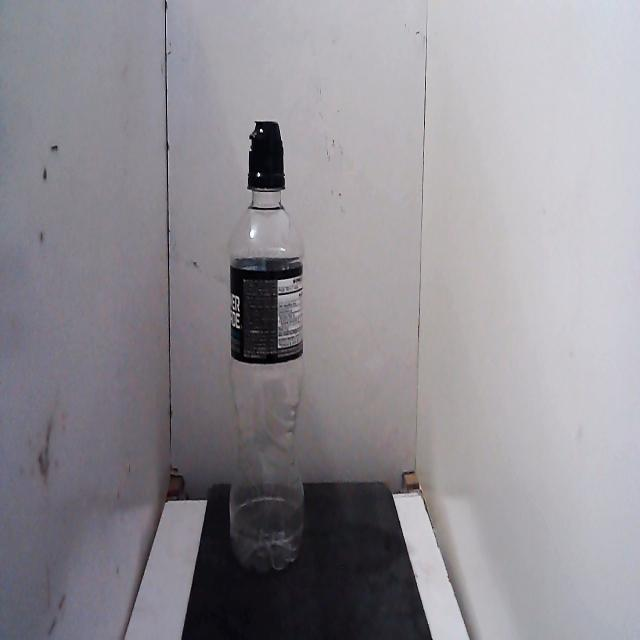plastico: (220, 105, 315, 581)
